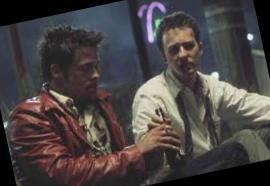Drunk: (67, 43, 103, 100), (163, 27, 201, 76)
